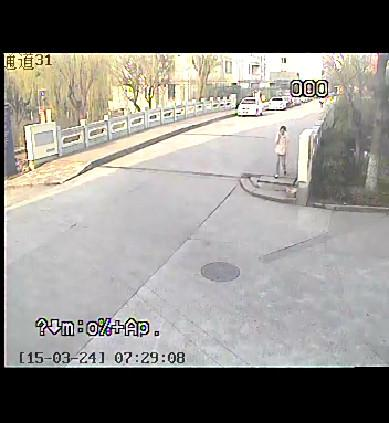person: (268, 119, 293, 181)
